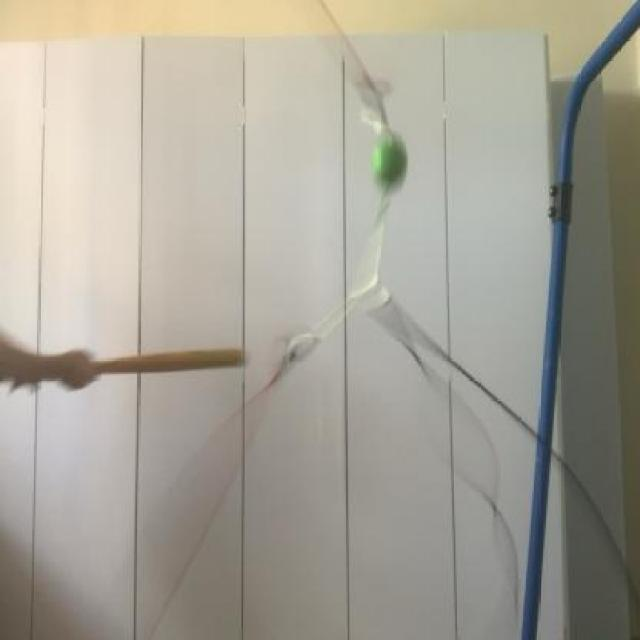baseball: (369, 128, 411, 201)
